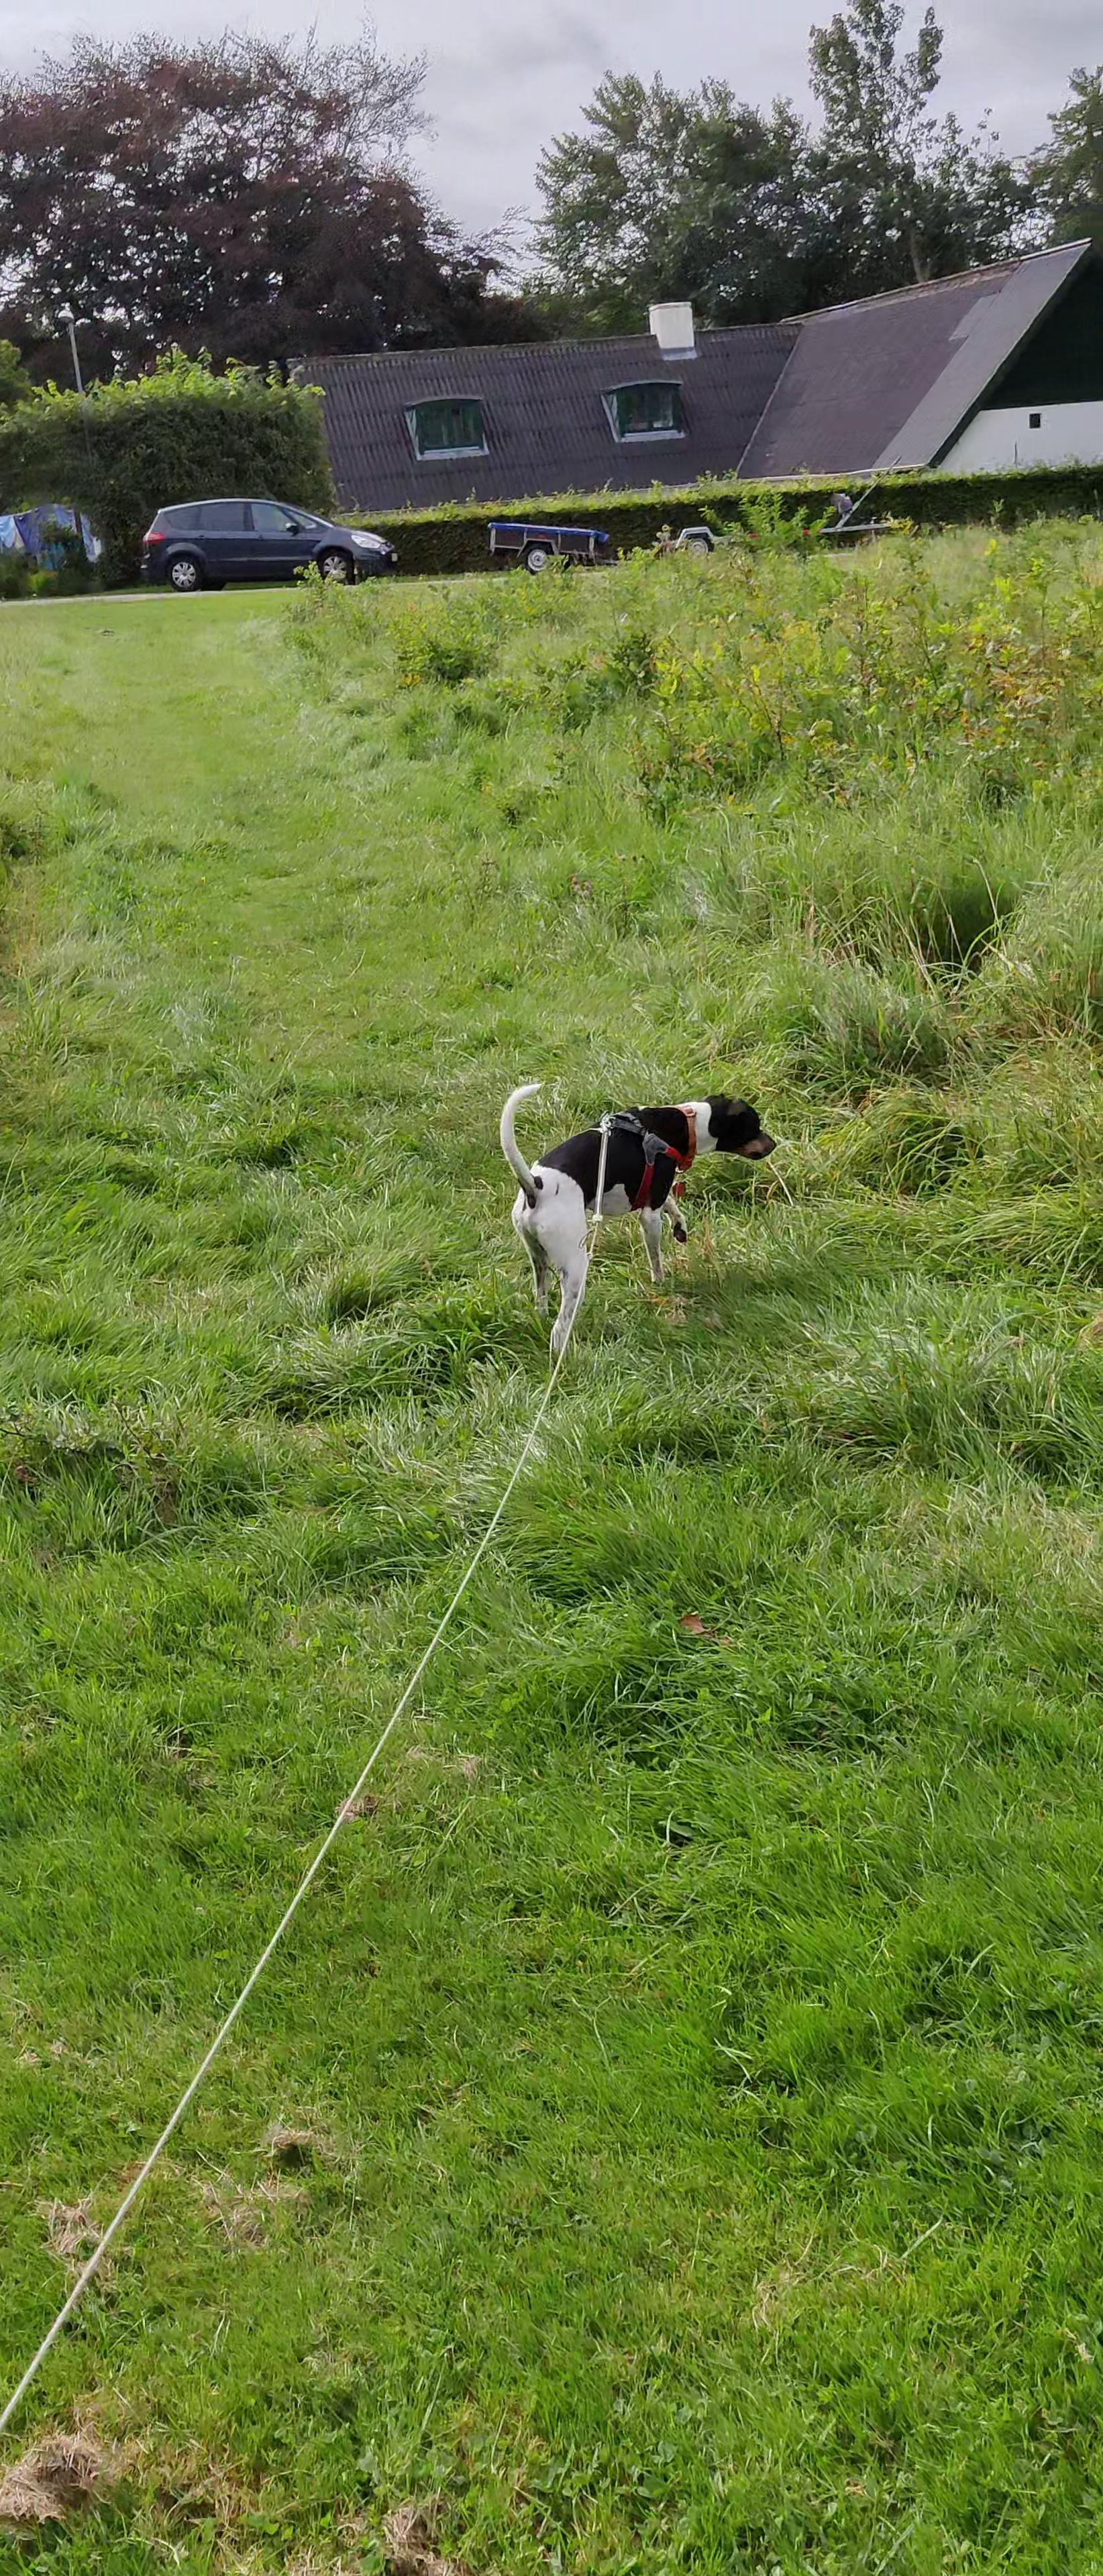Dog: (485, 1068, 786, 1370)
